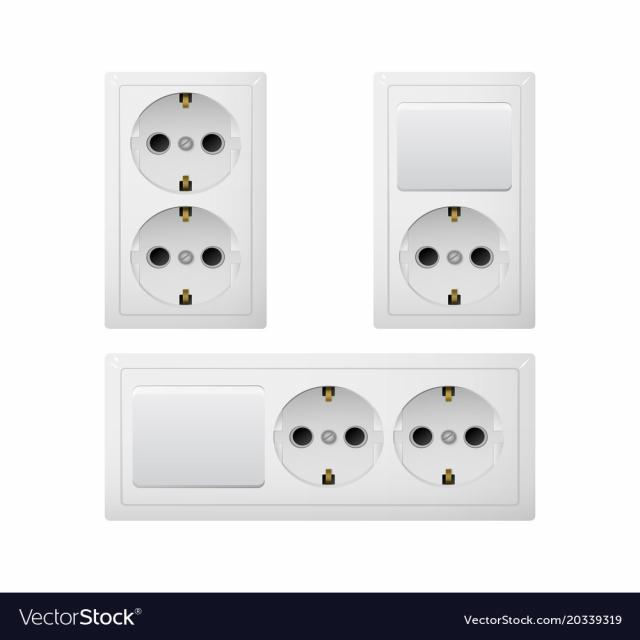typeb: (94, 348, 544, 530), (89, 61, 298, 333), (354, 68, 544, 334)
